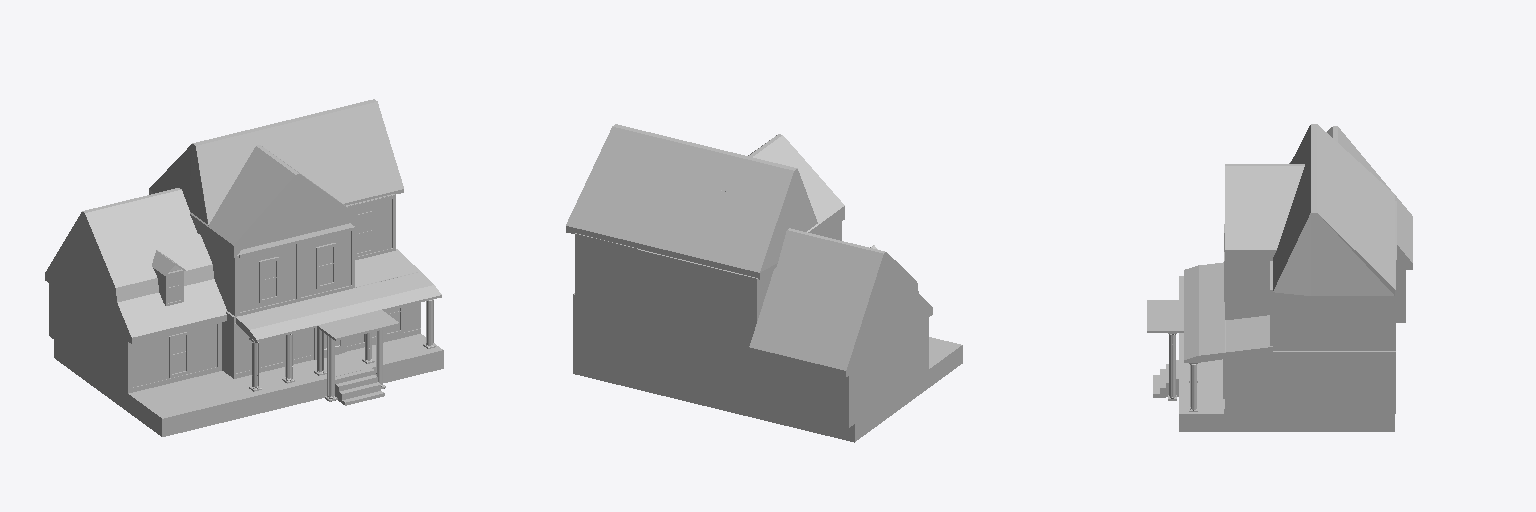
Rendered from casa 2.obj.
3 renders of one model, left to right at view 1: azimuth 30°, elevation 25°; view 2: azimuth 150°, elevation 25°; view 3: azimuth 270°, elevation 25°, orthographic.
Visible parts, largest first — view 1: pCube108; view 2: pCube108; view 3: pCube108.
Boxes of the visible parts, x1=… form: pCube108: x1=45, y1=99, x2=443, y2=436; pCube108: x1=566, y1=124, x2=962, y2=442; pCube108: x1=1147, y1=124, x2=1412, y2=431.
Size of the model in its own units: 22.18 by 16.07 by 17.65.